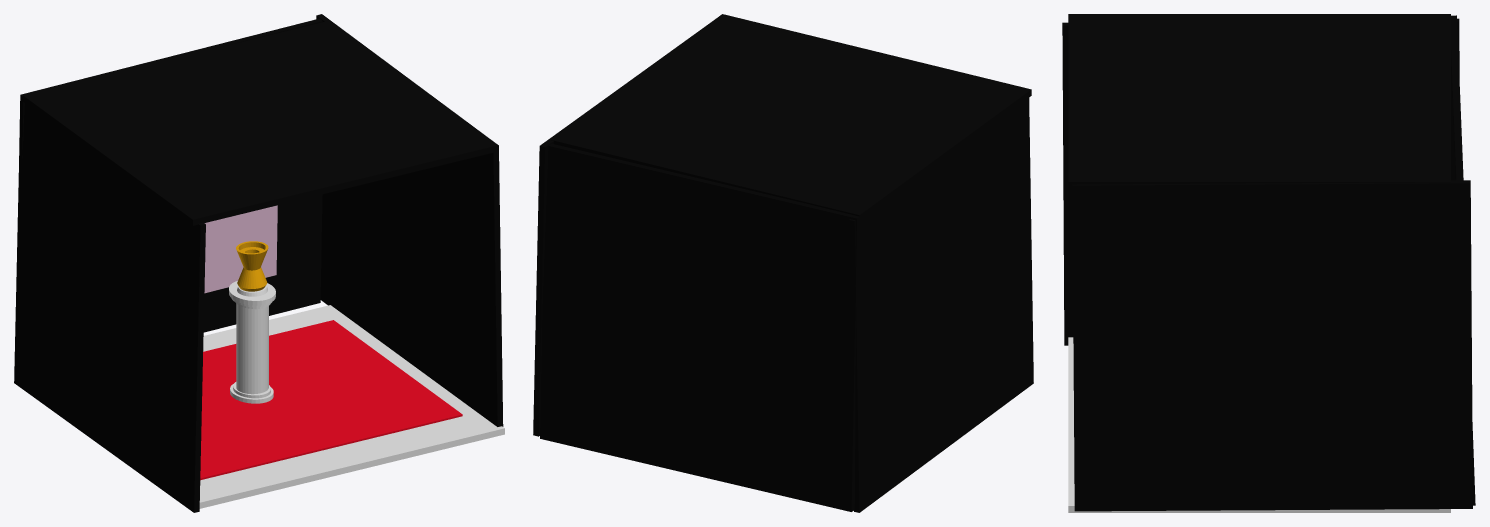
Rendered from archivo.glb.
3 views of the same model, side by side, from view 1: azimuth 30°, elevation 25°; view 2: azimuth 150°, elevation 25°; view 3: azimuth 270°, elevation 25° (orthographic). The views are drawn at different scales.
Parts seen in each view (by area): view 1: Cubo.004, Cubo.002, Cubo.003, Cubo.008, Cubo, Cubo.001, Cubo.006, Cilindro.004, Cilindro, Cilindro.001; view 2: Cubo.001, Cubo.004, Cubo.002, Cubo.003; view 3: Cubo.003, Cubo.004, Cubo.002, Cubo, Cubo.001.
Part boxes in pixels (box(x1,y1,x2,y2)): Cubo.004: box(23, 21, 498, 225); Cubo.002: box(14, 103, 205, 512); Cubo.003: box(316, 14, 503, 426); Cubo.008: box(200, 320, 462, 480); Cubo: box(199, 305, 504, 508); Cubo.001: box(19, 18, 322, 332); Cubo.006: box(204, 205, 277, 293); Cilindro.004: box(236, 285, 268, 394); Cilindro: box(236, 241, 268, 291); Cilindro.001: box(229, 281, 275, 305); Cubo.001: box(540, 143, 859, 511); Cubo.004: box(551, 14, 1031, 220); Cubo.002: box(849, 98, 1033, 512); Cubo.003: box(533, 31, 698, 436); Cubo.003: box(1072, 180, 1472, 511); Cubo.004: box(1068, 14, 1450, 188); Cubo.002: box(1062, 18, 1459, 345); Cubo: box(1068, 337, 1450, 512); Cubo.001: box(1451, 15, 1475, 505).
Size of the model in its own units: 1.73 by 1.52 by 1.73.
